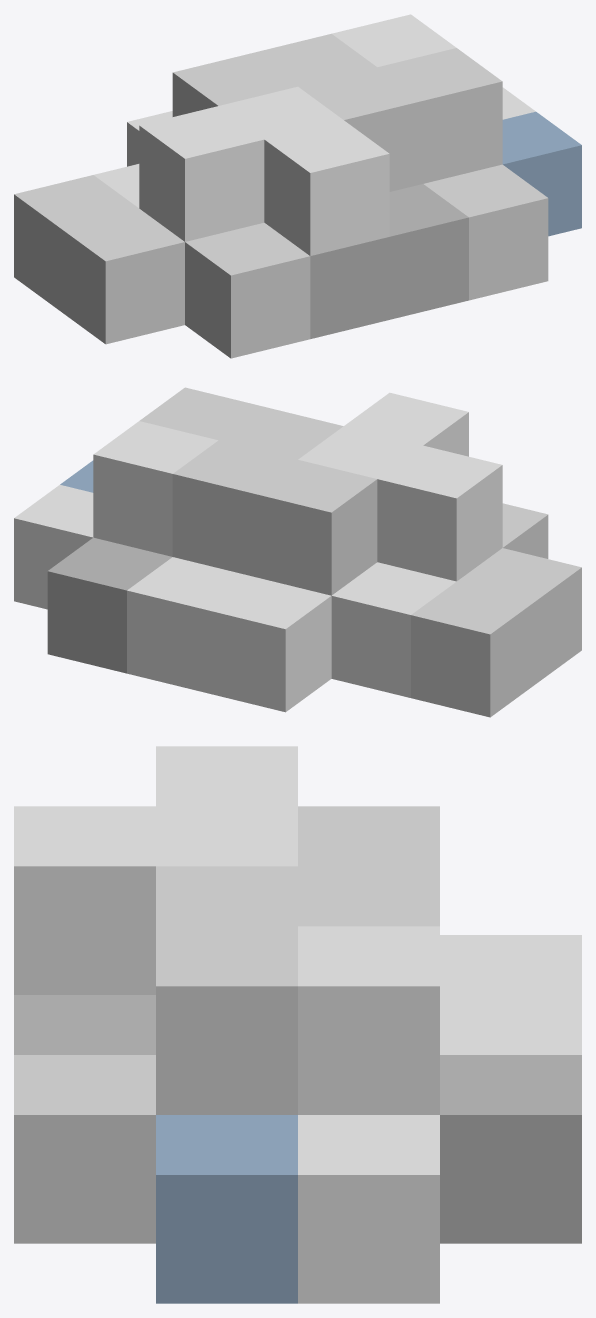
Rendered from zaspa2.obj.
The picture shows the model from 3 angles, top to bottom: view 1: azimuth 30°, elevation 25°; view 2: azimuth 150°, elevation 25°; view 3: azimuth 270°, elevation 25°; orthographic projection. The views are drawn at different scales.
Size of the model in its own units: 0.6 by 0.2 by 0.4.
